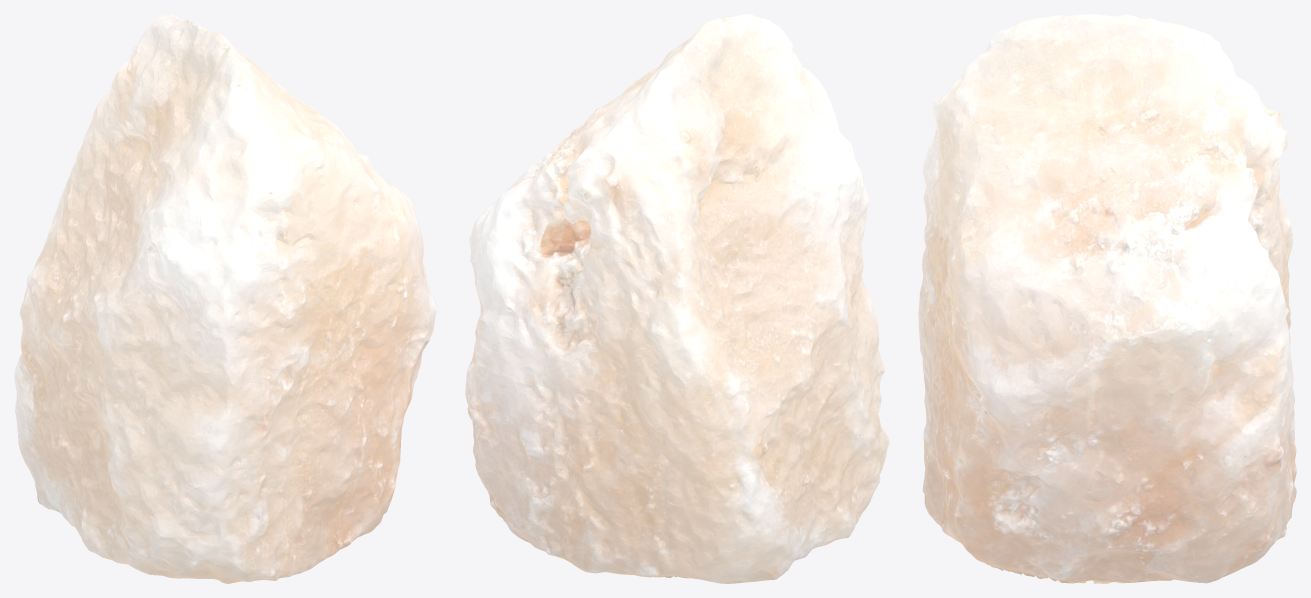
The model's file is rocksalt.glb.
3 renders of one model, left to right at view 1: azimuth 30°, elevation 25°; view 2: azimuth 150°, elevation 25°; view 3: azimuth 270°, elevation 25°, orthographic. The views are drawn at different scales.
Visible parts, largest first — view 1: Stereo textured mesh_Material0_0; view 2: Stereo textured mesh_Material0_0; view 3: Stereo textured mesh_Material0_0.
Part boxes in pixels (x1,y1,x2,y2): Stereo textured mesh_Material0_0: (14, 14, 436, 583); Stereo textured mesh_Material0_0: (465, 14, 889, 583); Stereo textured mesh_Material0_0: (918, 14, 1296, 583).
Bounding box in the file's own units: 0.0998 × 0.14 × 0.0954.
Materials: 1 (1 with a texture image).
